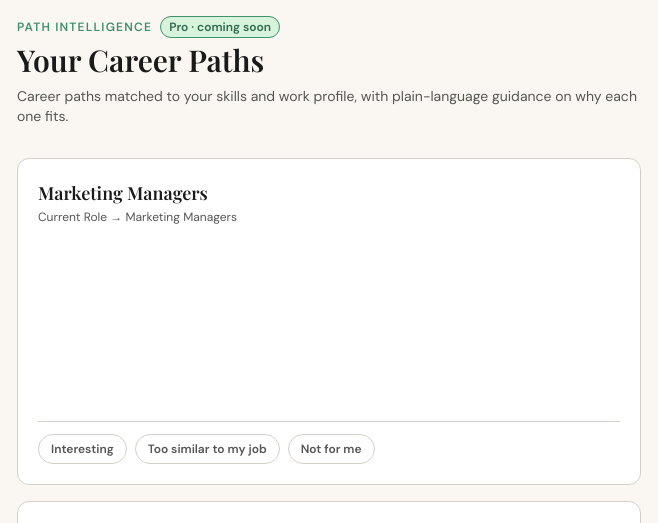
Test case: PathIntelligencePage - inline feedback › takes the whole screen for a failure about the profile, not about the card
Click the button "Interesting": [82, 449] box [38, 434, 127, 464]
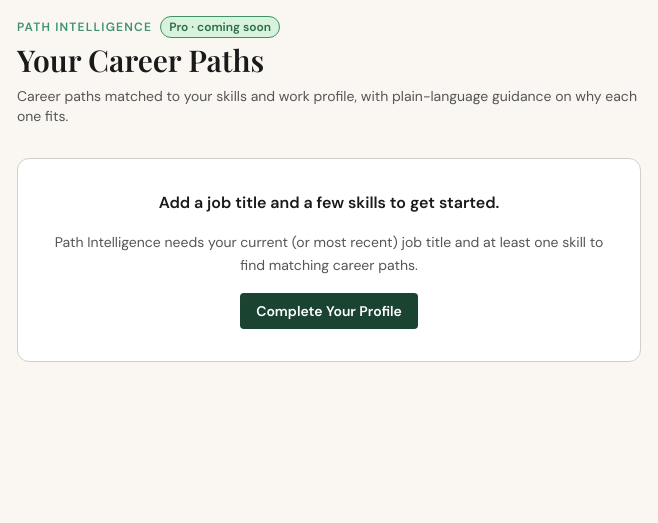
Check: the button "Complete Your Profile" is shown, box [240, 292, 418, 328]
